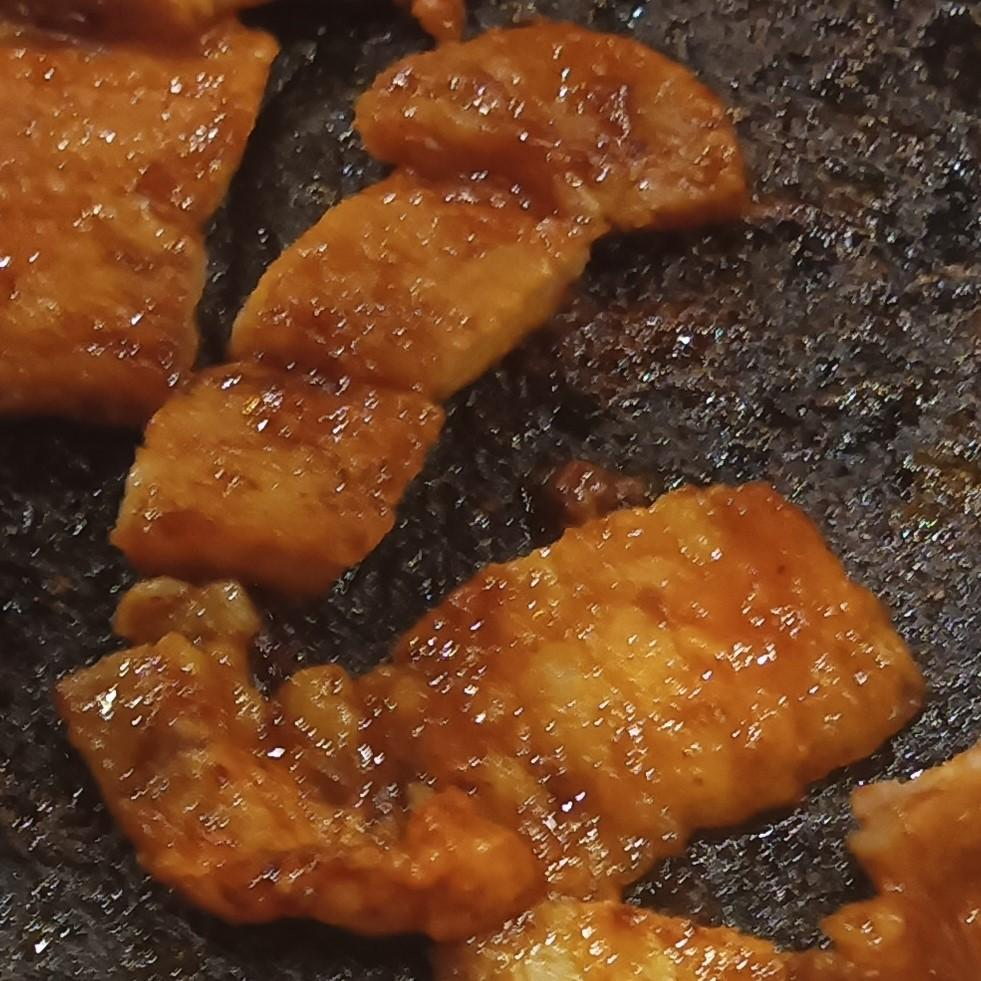Well-Cooked: (58, 488, 980, 980), (112, 0, 746, 589), (0, 19, 278, 422)
